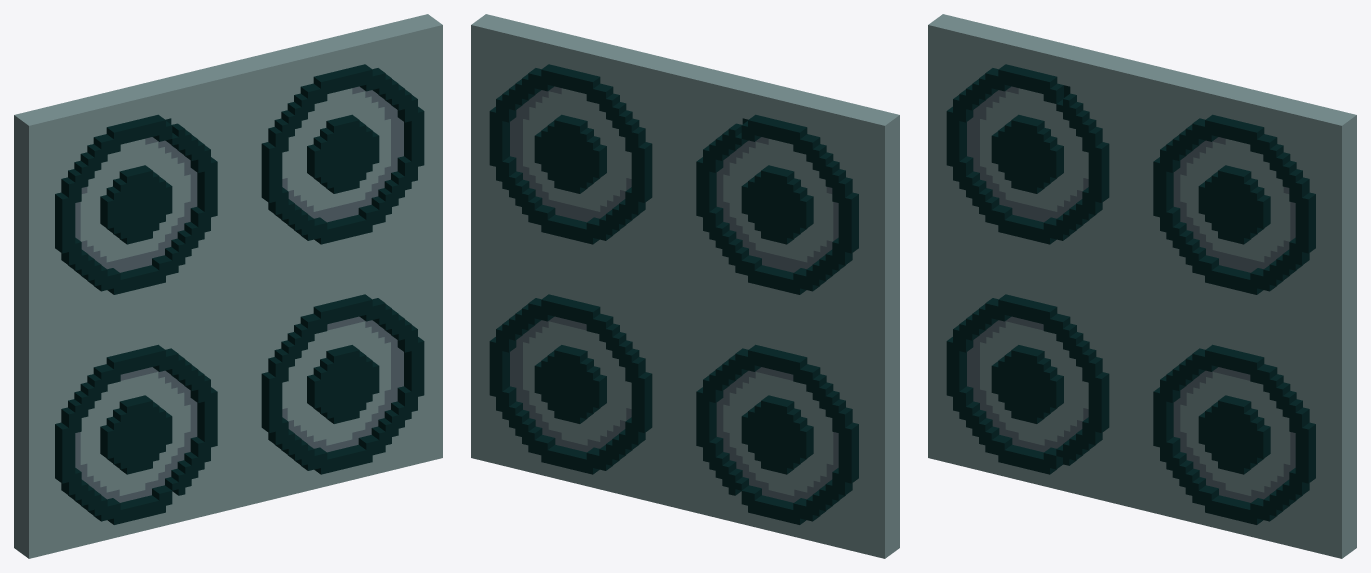
The model's file is firin_ust_kisim.fbx.
3 renders of one model, left to right at view 1: azimuth 30°, elevation 25°; view 2: azimuth 150°, elevation 25°; view 3: azimuth 330°, elevation 25°, orthographic.
Parts seen in each view (by area): view 1: generated; view 2: generated; view 3: generated.
Part boxes in pixels (left/top/right/bottom): generated: left=14, top=14, right=442, bottom=558; generated: left=471, top=14, right=899, bottom=558; generated: left=928, top=14, right=1356, bottom=558.
Size of the model in its own units: 640 by 640 by 80.
